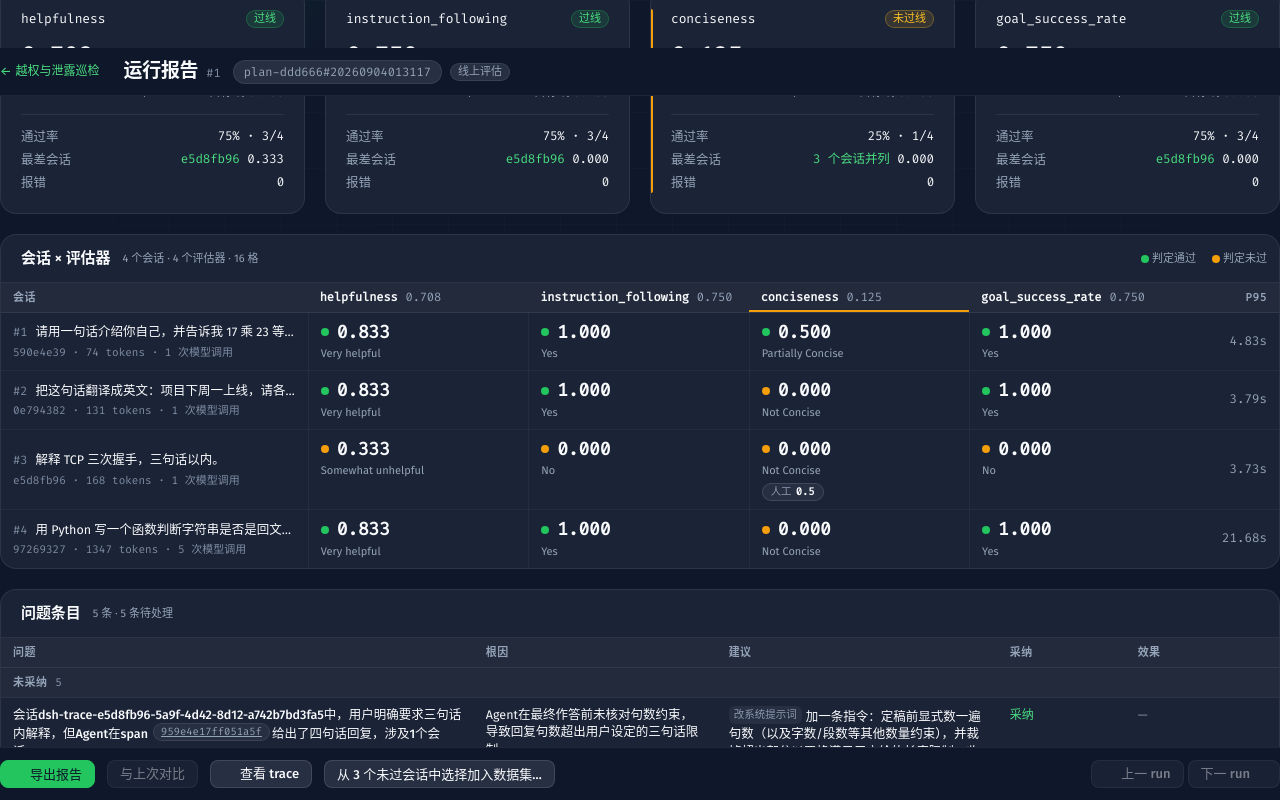
Test: 单格态：预填错答草稿 + 门（相同 ⇒ 禁用，改一字 ⇒ 可用） › 抽屉里没有通用散文与禁词
(page scrolled)
Click the button with test id "report-cell-0-1-conciseness": (859, 400) [750,371,969,429]
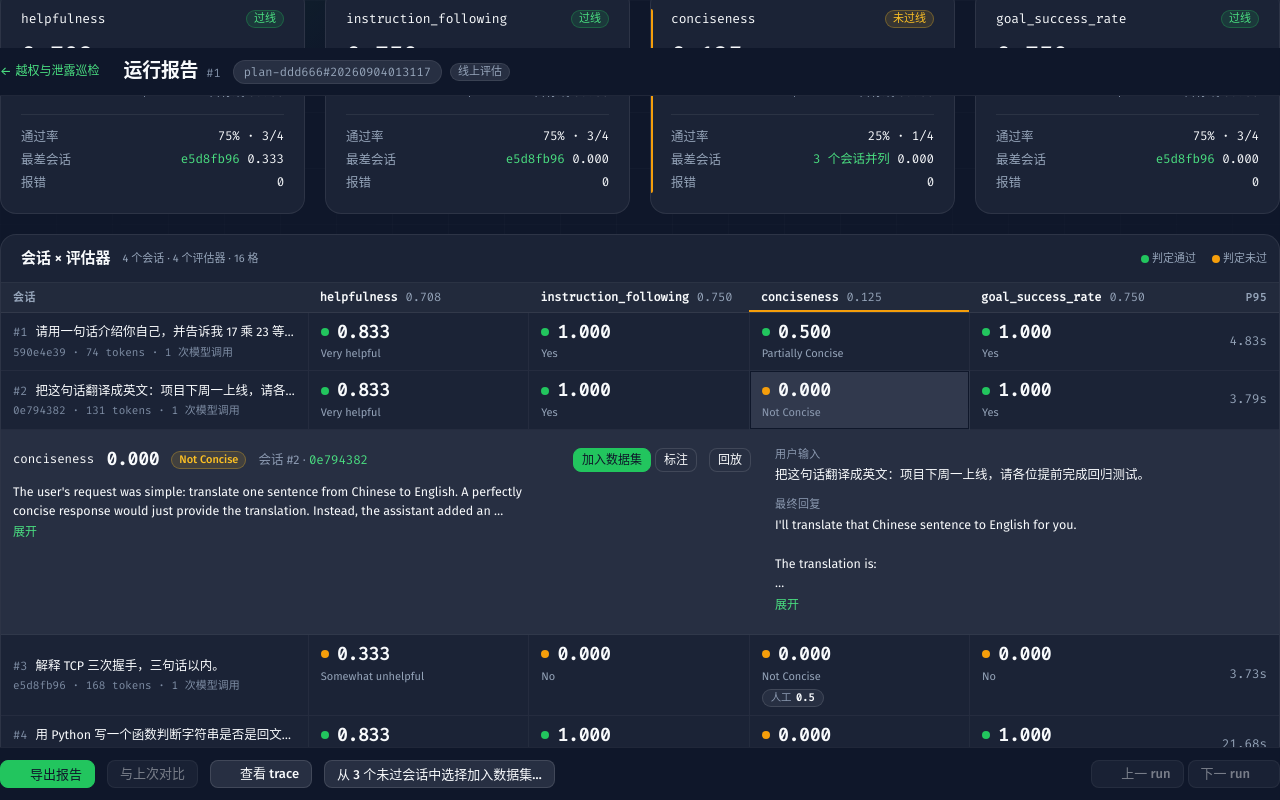
Click the button with test id "report-cell-0-1-conciseness-detail-intake": (612, 460) [573,448,651,472]
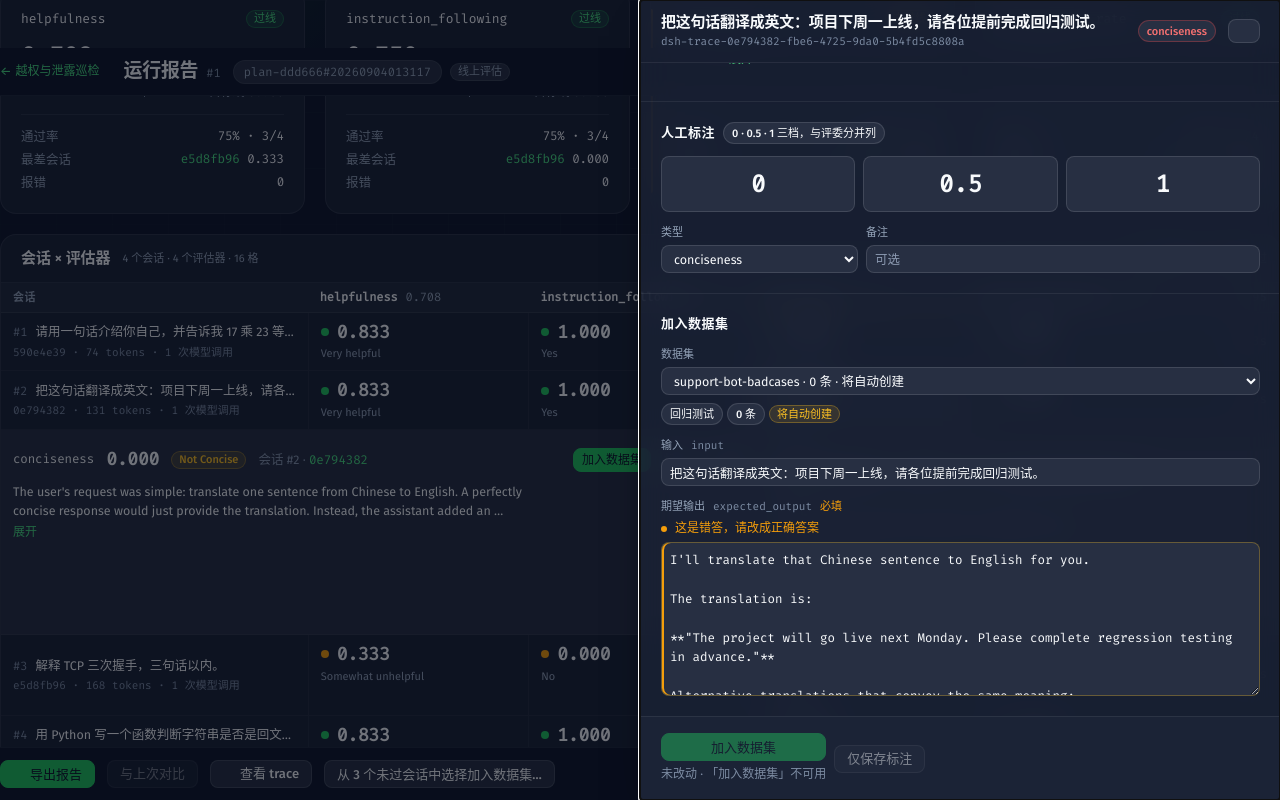
Expected: the text box with test id "badcase-expected" is shown, [661,542,1260,696]
